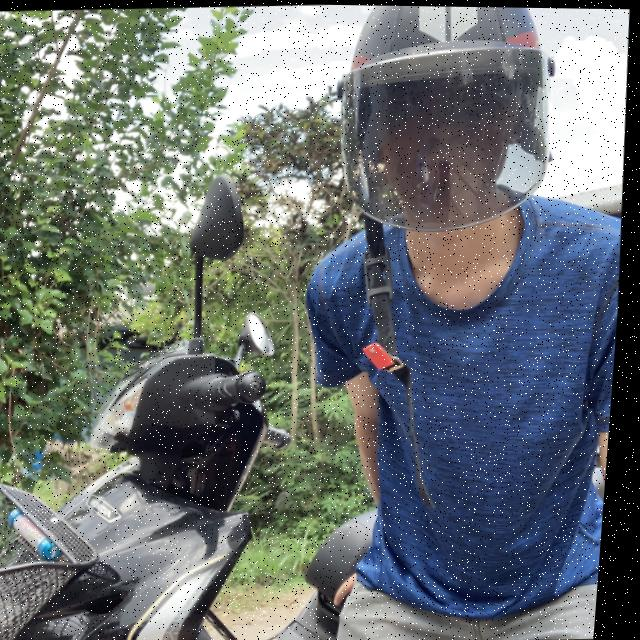illegal_helmet: (300, 4, 582, 519)
